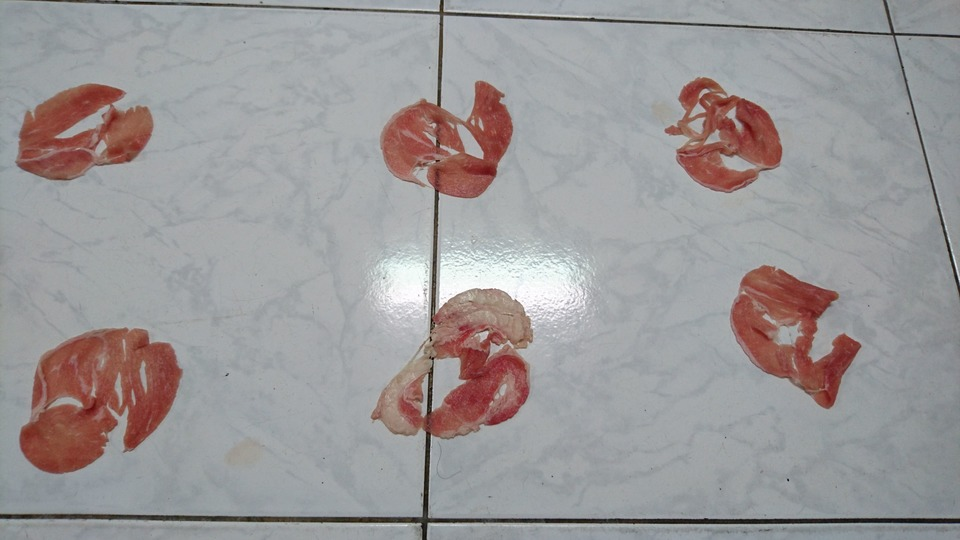restructured meat: (371, 279, 540, 444), (18, 318, 187, 478), (729, 255, 865, 414), (382, 75, 517, 200), (658, 69, 793, 194), (13, 78, 155, 184)
